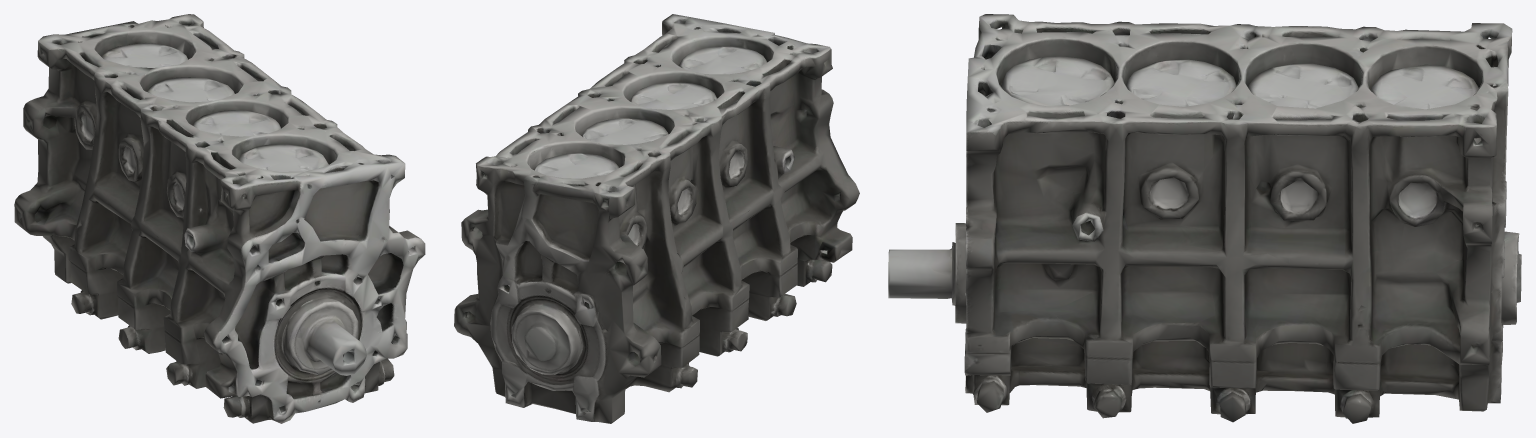
The model's file is short-engine-assy.glb.
3 views of the same model, side by side, from view 1: azimuth 30°, elevation 25°; view 2: azimuth 150°, elevation 25°; view 3: azimuth 270°, elevation 25° (orthographic). The views are drawn at different scales.
Parts seen in each view (by area): view 1: tripo_node_5c7f0bfa-d877-4420-adf7-121524c34a48; view 2: tripo_node_5c7f0bfa-d877-4420-adf7-121524c34a48; view 3: tripo_node_5c7f0bfa-d877-4420-adf7-121524c34a48.
Part boxes in pixels (x1,y1,x2,y2): tripo_node_5c7f0bfa-d877-4420-adf7-121524c34a48: (14,14,425,423); tripo_node_5c7f0bfa-d877-4420-adf7-121524c34a48: (454,14,859,423); tripo_node_5c7f0bfa-d877-4420-adf7-121524c34a48: (888,14,1521,423).
Bounding box in the file's own units: 0.4948 × 0.5406 × 1.
Materials: 1 (1 with a texture image).
